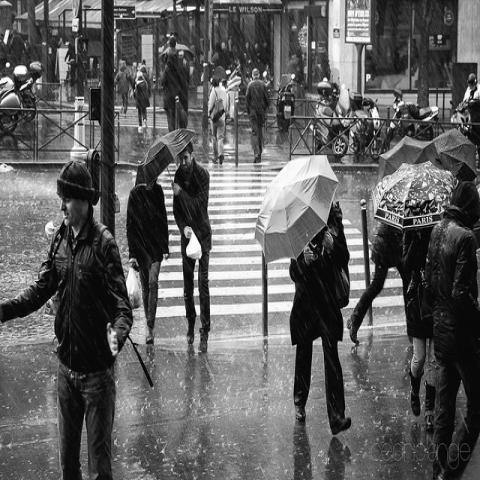motorcycle: (307, 75, 356, 158), (383, 88, 439, 147), (0, 66, 34, 137), (350, 92, 384, 160), (276, 74, 298, 130), (448, 99, 473, 141)
